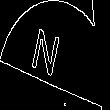N_S: (38, 25, 72, 85)
